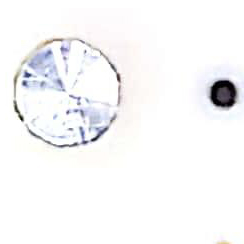abnormal: (6, 27, 146, 160)
cancer: (182, 65, 243, 123)
